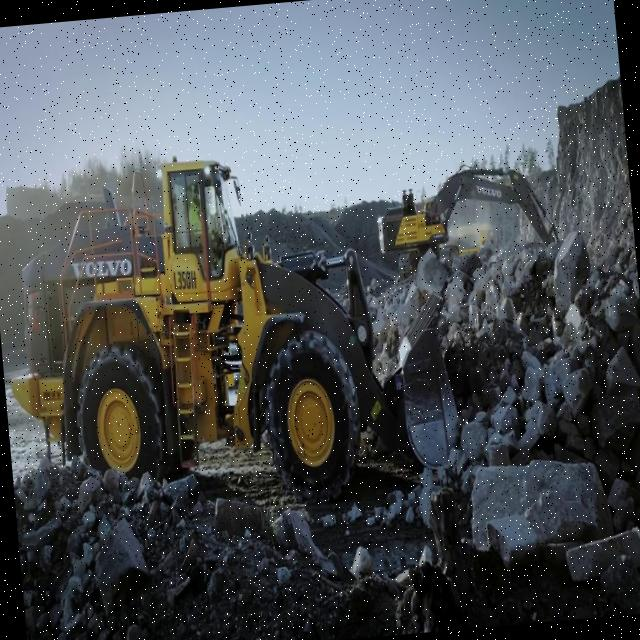Excavator: (371, 152, 564, 280)
Loader: (0, 125, 467, 528)
